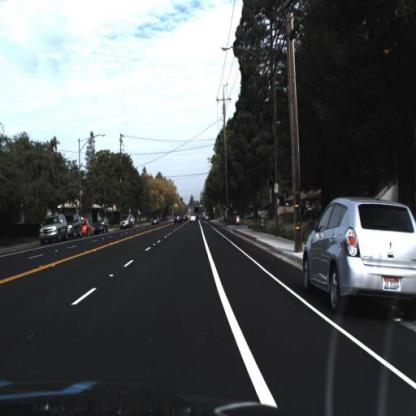car: (301, 196, 416, 314), (37, 212, 65, 244), (38, 213, 68, 240), (64, 211, 81, 238), (89, 219, 110, 234), (78, 216, 92, 237), (118, 215, 130, 228), (150, 214, 160, 227)
